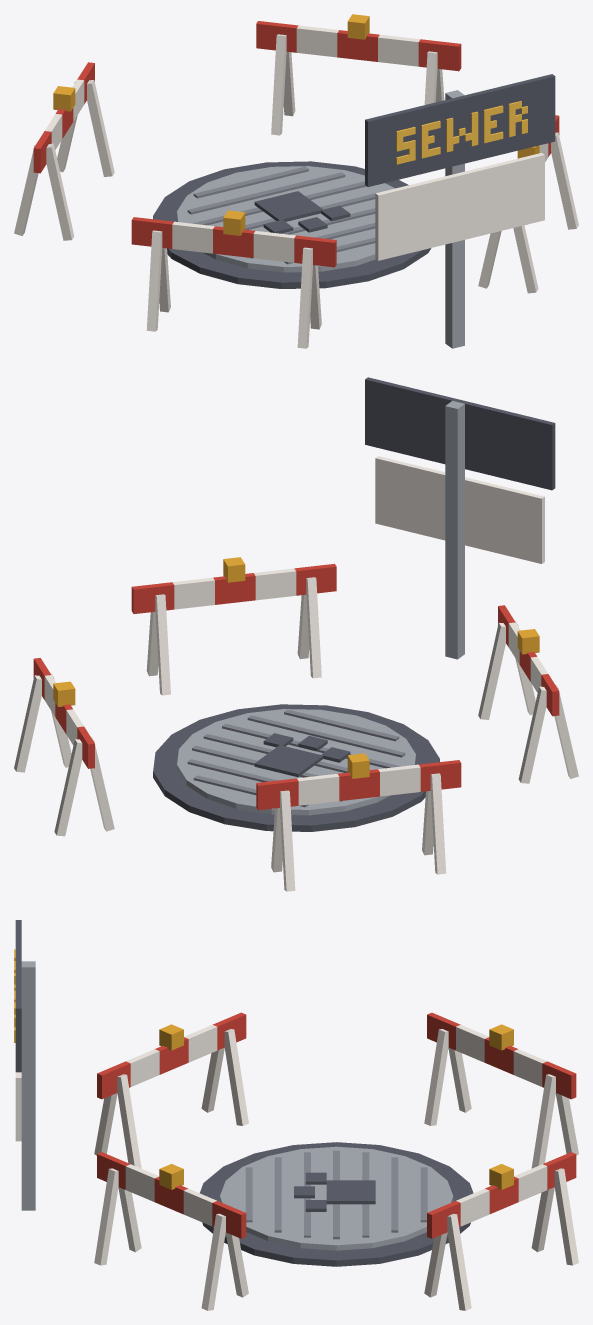
Rendered from CatCafe_Sewer_Manhole.glb.
The picture shows the model from 3 angles, top to bottom: view 1: azimuth 30°, elevation 25°; view 2: azimuth 150°, elevation 25°; view 3: azimuth 270°, elevation 25°; orthographic projection. The views are drawn at different scales.
Visible parts, largest first — view 1: CatCafe_Sewer_Manhole, CatCafe_Sewer_Manhole_Cover, CatCafe_Sewer_Manhole_SignBoard, CatCafe_Sewer_Manhole_Lamp_Bulb; view 2: CatCafe_Sewer_Manhole, CatCafe_Sewer_Manhole_Cover, CatCafe_Sewer_Manhole_SignBoard, CatCafe_Sewer_Manhole_Lamp_Bulb; view 3: CatCafe_Sewer_Manhole, CatCafe_Sewer_Manhole_Cover, CatCafe_Sewer_Manhole_Lamp_Bulb.
Boxes of the visible parts, x1,y1,x2,y2 form: CatCafe_Sewer_Manhole: (14,21,578,348); CatCafe_Sewer_Manhole_Cover: (177,166,394,272); CatCafe_Sewer_Manhole_SignBoard: (375,153,544,260); CatCafe_Sewer_Manhole_Lamp_Bulb: (53,14,539,235); CatCafe_Sewer_Manhole: (14,377,578,891); CatCafe_Sewer_Manhole_Cover: (177,709,415,815); CatCafe_Sewer_Manhole_SignBoard: (375,456,544,563); CatCafe_Sewer_Manhole_Lamp_Bulb: (53,557,539,778); CatCafe_Sewer_Manhole: (14,920,578,1310); CatCafe_Sewer_Manhole_Cover: (220,1146,453,1250); CatCafe_Sewer_Manhole_Lamp_Bulb: (159,1024,513,1189).
Size of the model in its own units: 8.31 by 4.65 by 9.68.
1 material, 1 textured.
